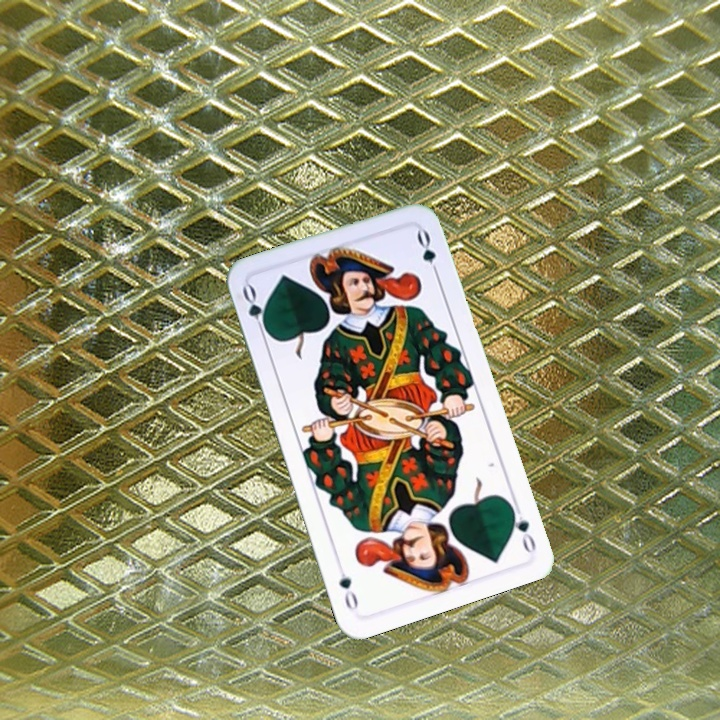GO: (238, 281, 273, 340), (505, 497, 539, 556)
